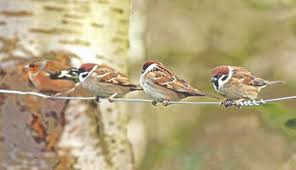hsparrow: (205, 63, 290, 109), (134, 58, 208, 109), (70, 63, 144, 107)
